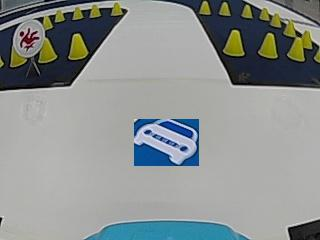cone: (223, 28, 245, 58), (258, 32, 278, 59), (68, 33, 88, 60), (38, 39, 57, 63), (287, 38, 304, 61), (9, 47, 24, 67), (283, 18, 295, 37), (198, 0, 211, 15), (241, 3, 253, 19), (219, 1, 231, 16), (89, 3, 101, 18), (270, 11, 281, 27), (302, 30, 311, 49), (111, 1, 122, 16), (72, 6, 83, 20), (54, 8, 65, 22), (259, 6, 269, 21), (42, 15, 52, 30)
tumble: (16, 22, 42, 52)
